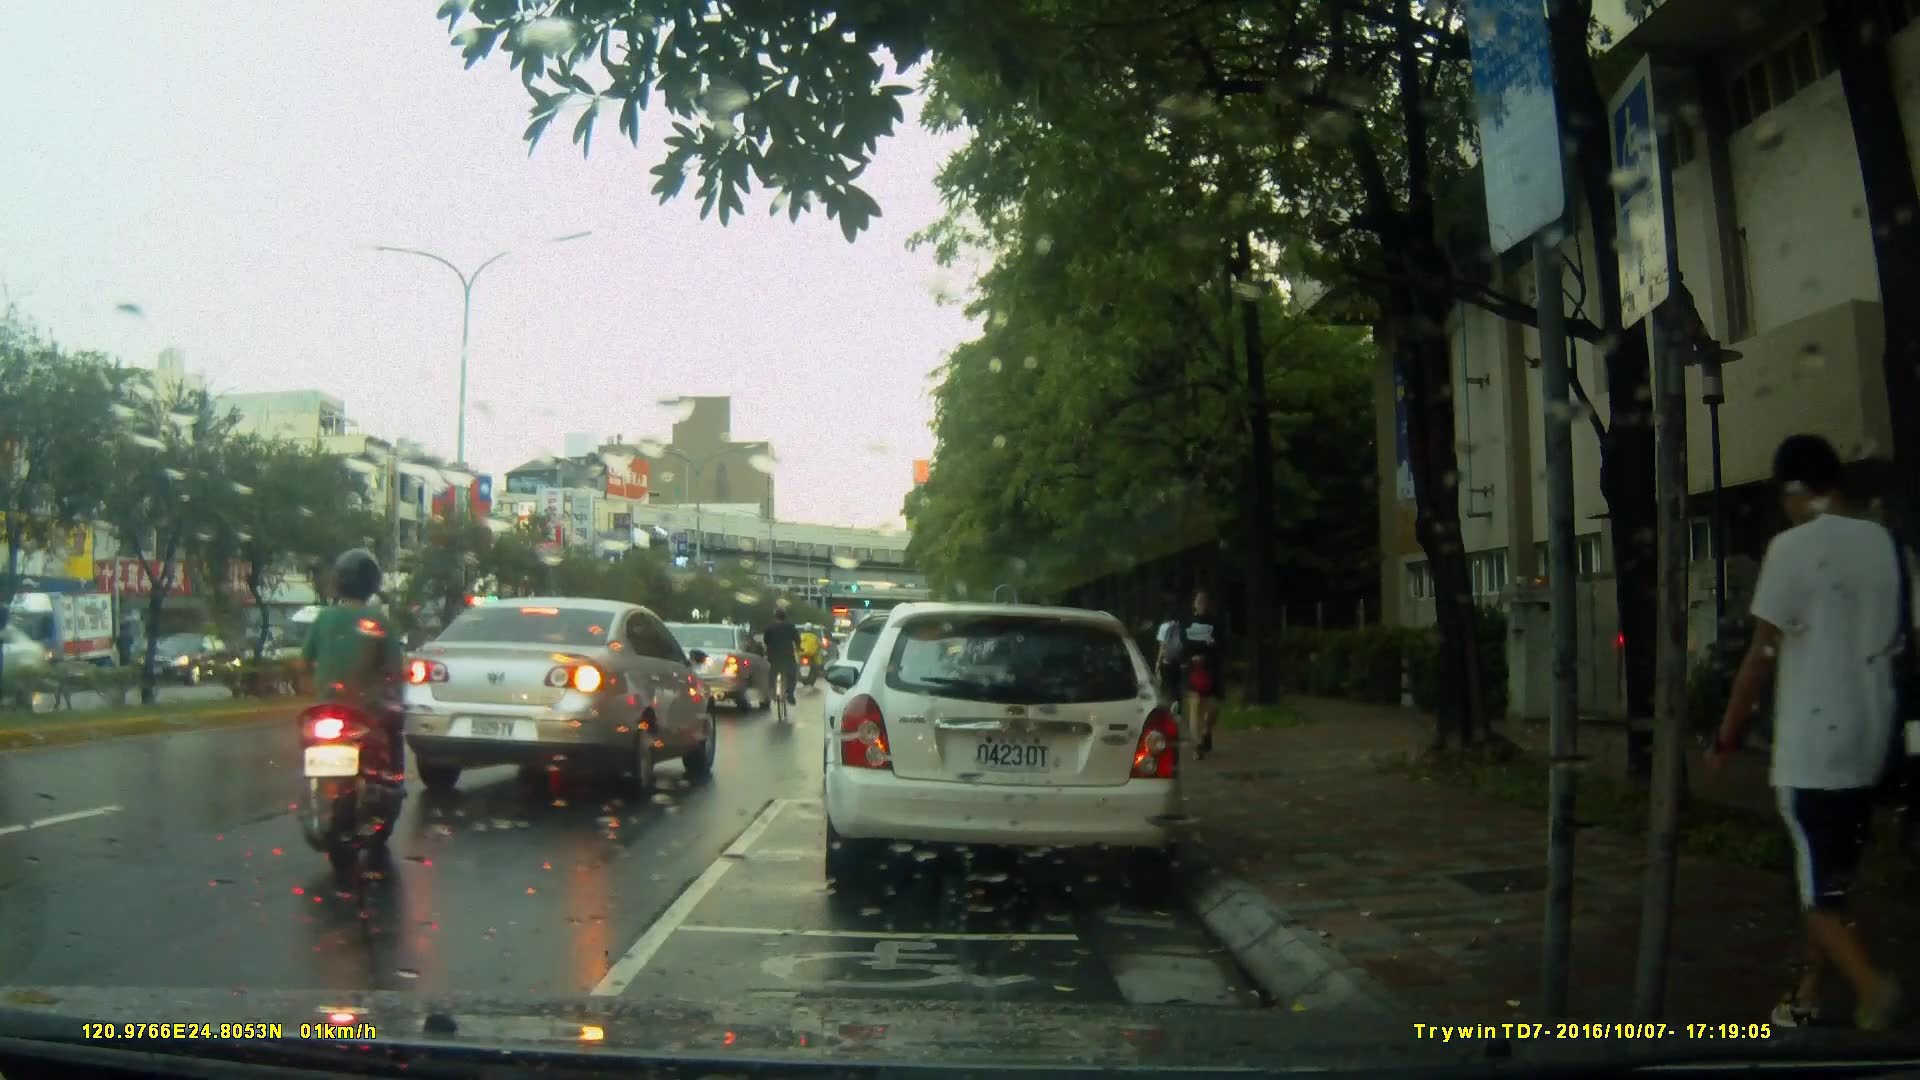pedestrian: (1732, 411, 1881, 1042), (1171, 590, 1230, 760), (1145, 604, 1193, 732)
rider: (286, 548, 396, 903), (761, 608, 800, 735), (797, 615, 828, 692)
vehicle: (820, 602, 1188, 898), (399, 594, 721, 803), (1, 587, 128, 699), (632, 623, 776, 717)
